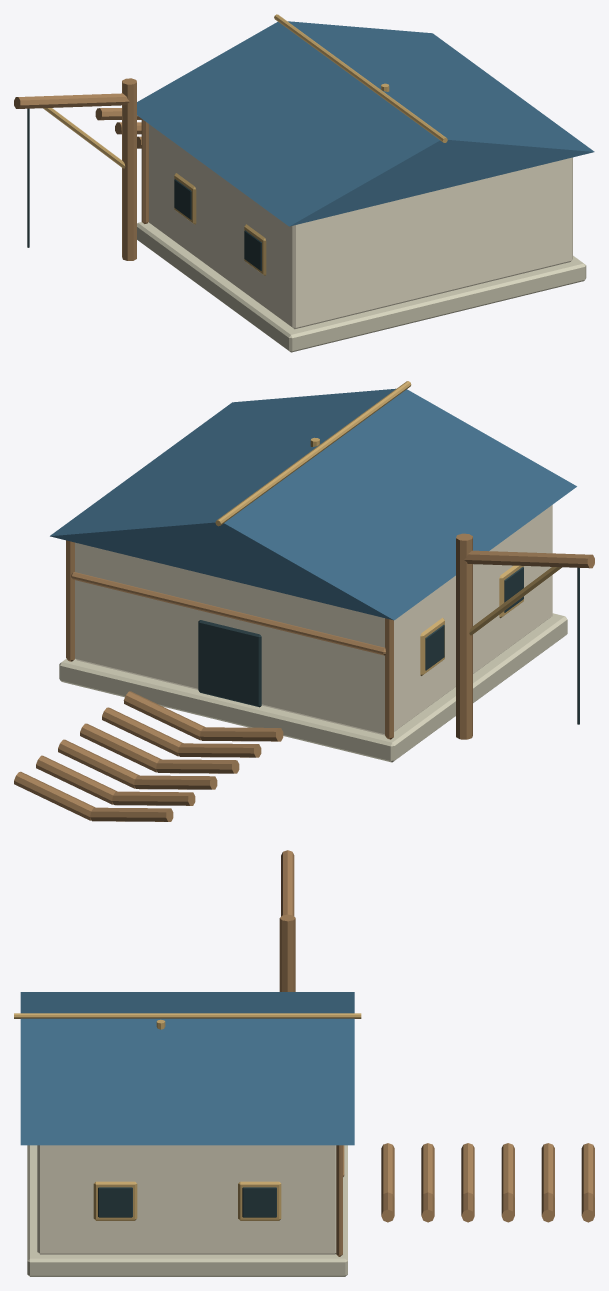
File: level_06.glb
3 renders of one model, top to bottom at view 1: azimuth 30°, elevation 25°; view 2: azimuth 150°, elevation 25°; view 3: azimuth 270°, elevation 25°, orthographic. The views are drawn at different scales.
Parts seen in each view (by area): view 1: shipyard — level 06; view 2: shipyard — level 06; view 3: shipyard — level 06.
Part boxes in pixels (left/top/right/bottom): shipyard — level 06: left=14, top=14, right=594, bottom=352; shipyard — level 06: left=14, top=381, right=594, bottom=821; shipyard — level 06: left=14, top=850, right=594, bottom=1276.
Bounding box in the file's own units: 7.99 × 3.42 × 8.7.
